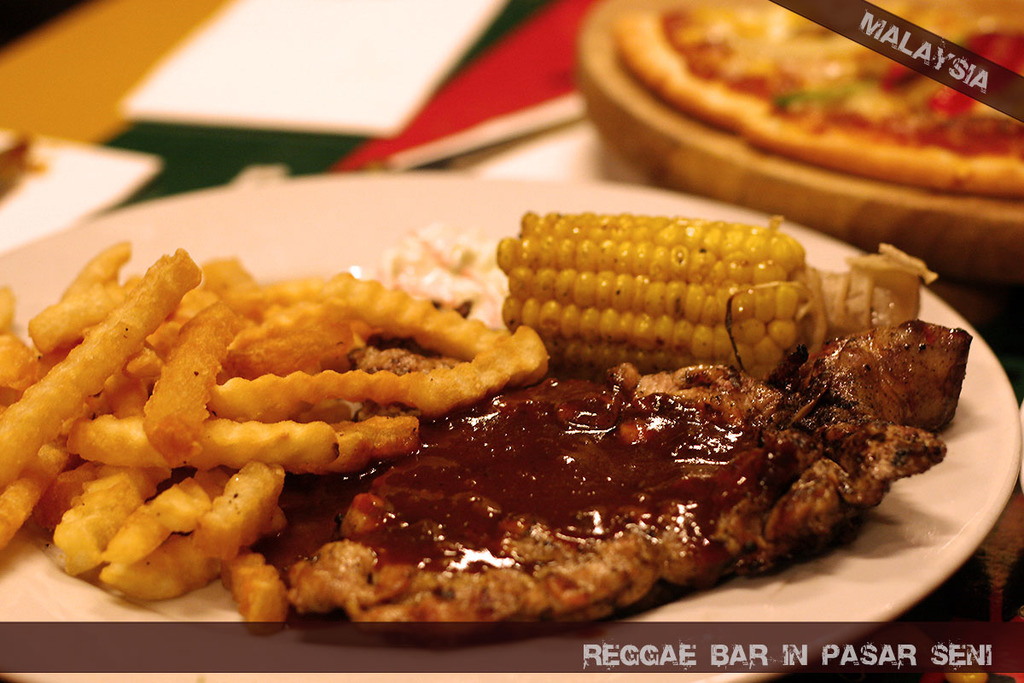French fries: (7, 254, 524, 595)
